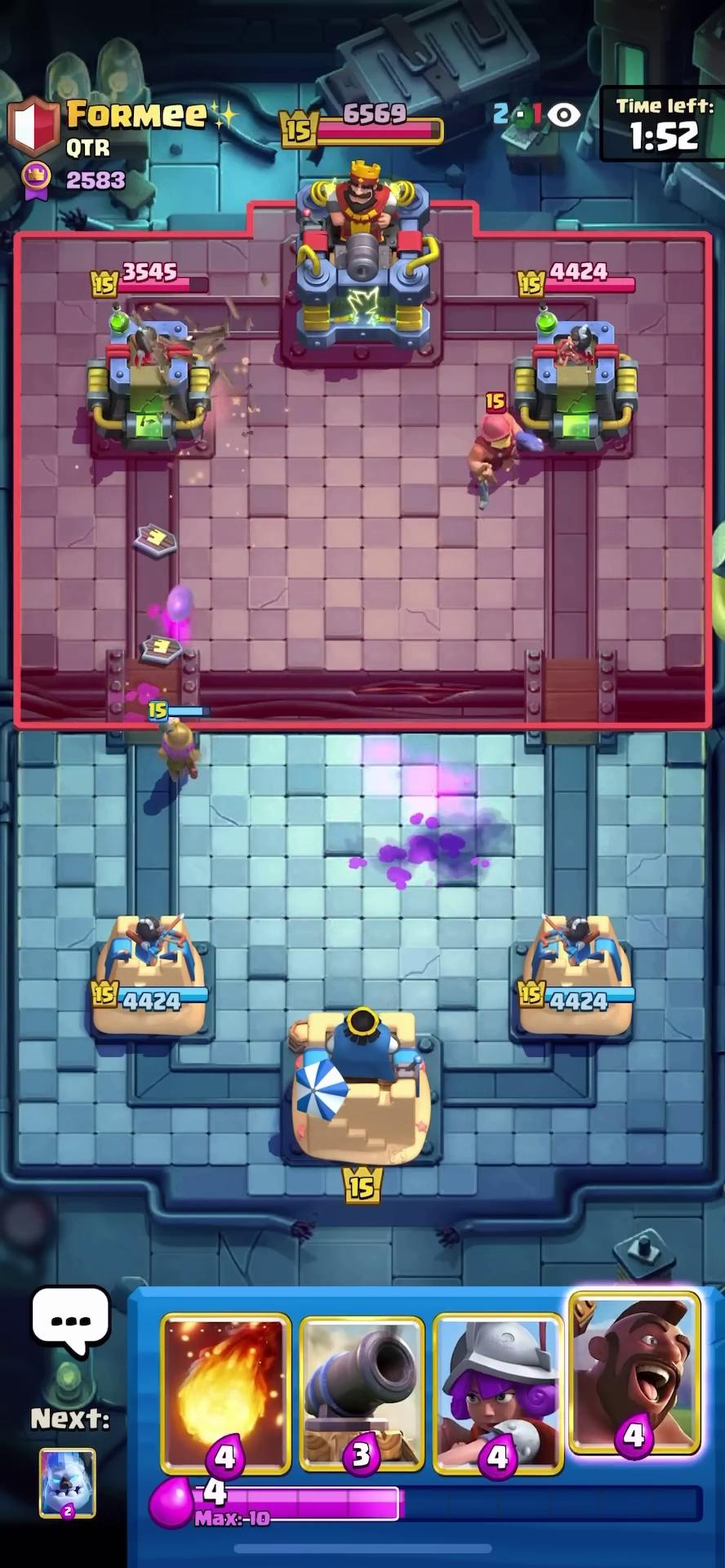musketeer: (141, 700, 214, 780)
